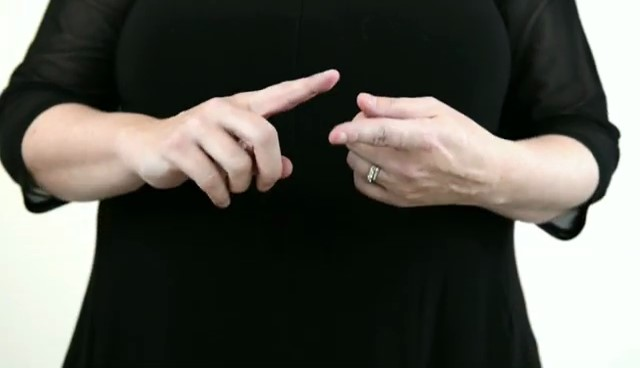E: (141, 65, 503, 221)
